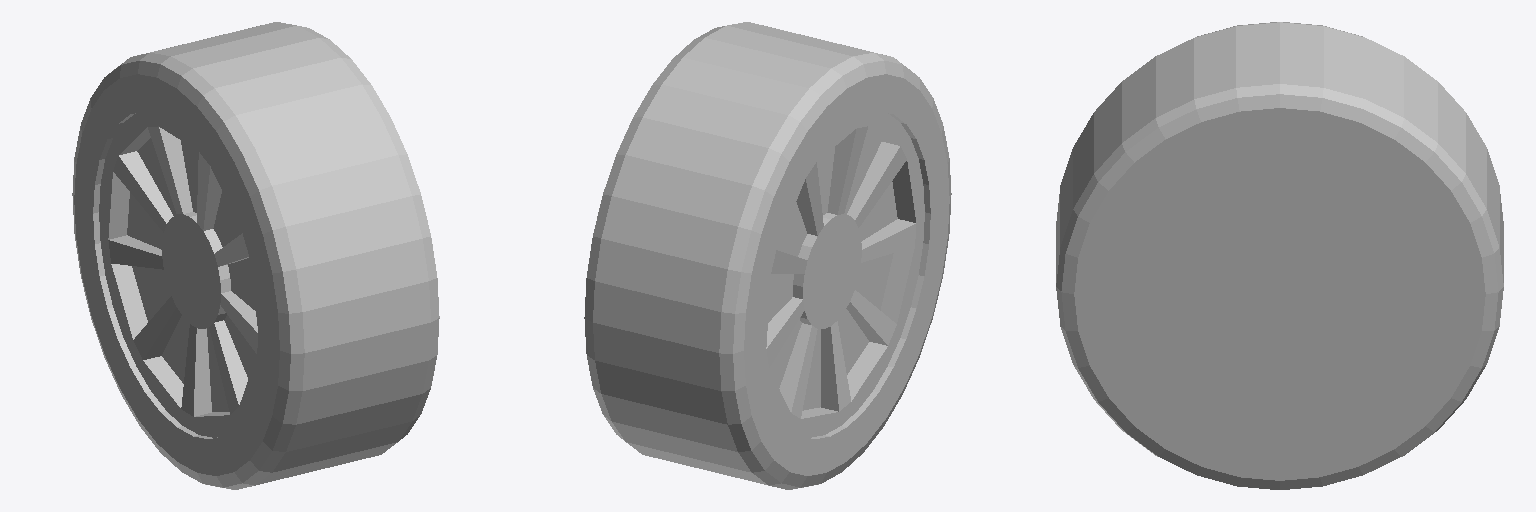
The model's file is rear_left_tire.obj.
3 renders of one model, left to right at view 1: azimuth 30°, elevation 25°; view 2: azimuth 150°, elevation 25°; view 3: azimuth 270°, elevation 25°, orthographic.
Parts seen in each view (by area): view 1: s15-wheel.Bk.L; view 2: s15-wheel.Bk.L; view 3: s15-wheel.Bk.L.
Boxes of the visible parts, box(x1,y1,x2,y2) form: s15-wheel.Bk.L: box(72, 22, 439, 489); s15-wheel.Bk.L: box(584, 22, 951, 489); s15-wheel.Bk.L: box(1056, 22, 1503, 489).
Size of the model in its own units: 0.269 by 0.6616 by 0.6616.